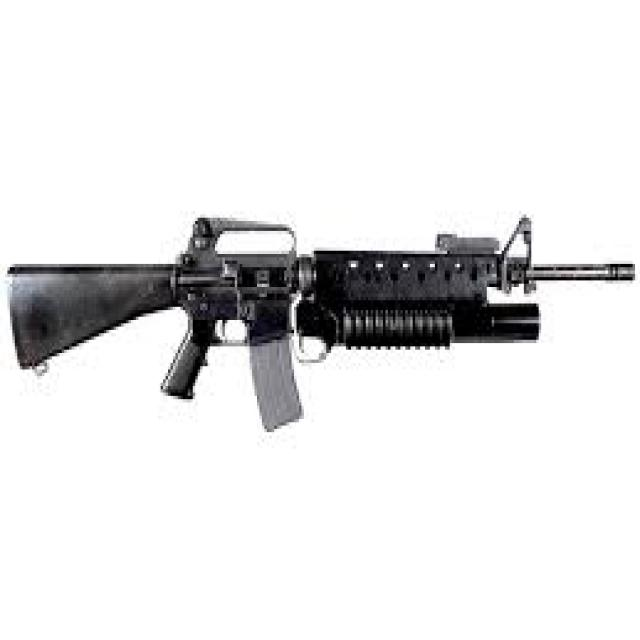rifle: (2, 204, 637, 433)
